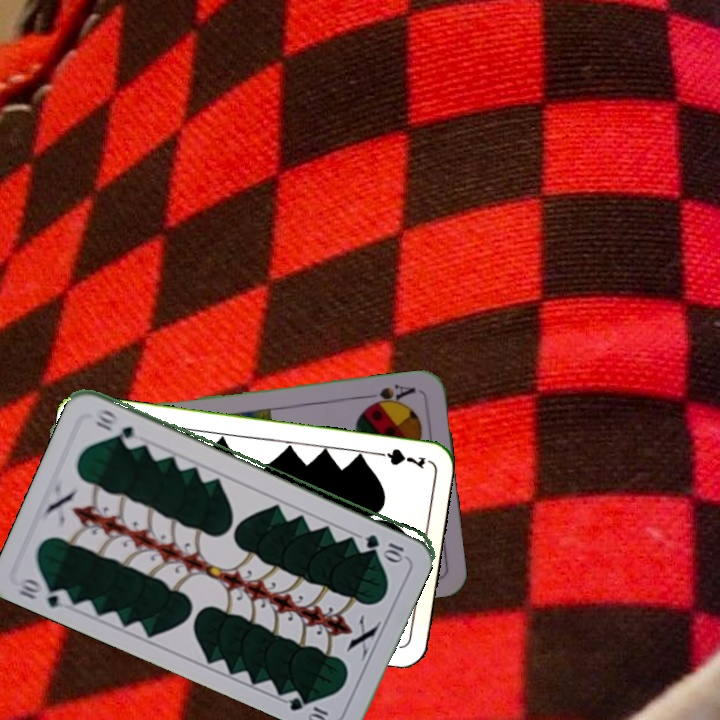G10: (14, 574, 74, 611), (361, 530, 406, 561)
G7: (369, 444, 428, 472)
SA: (361, 380, 418, 410)
